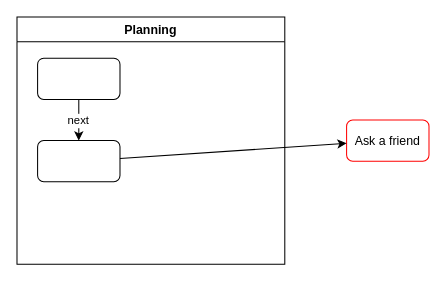
Some shapes in this 446 by 281 pixel diagram are drawn without their labels. The box of each missing label's shape, as (x1, y1, x2, y2) in pixels:
Collect the forms: (37, 140, 120, 182)
Draft the plan: (37, 57, 120, 99)
